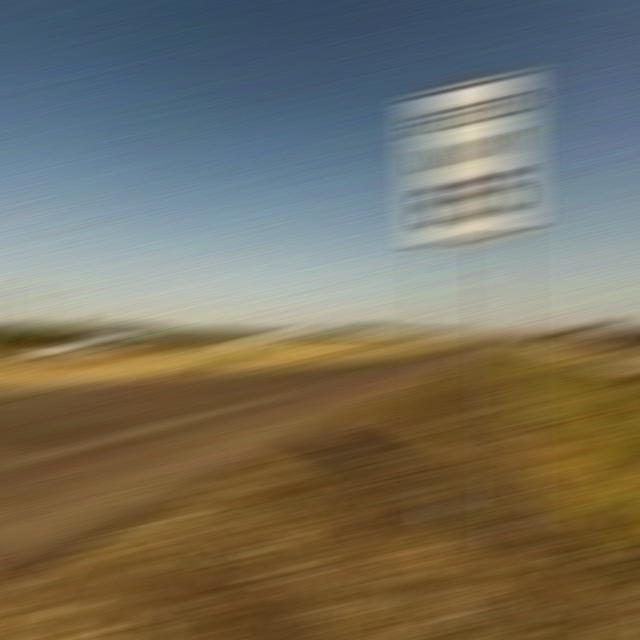speedLimit85: (412, 77, 534, 252)
